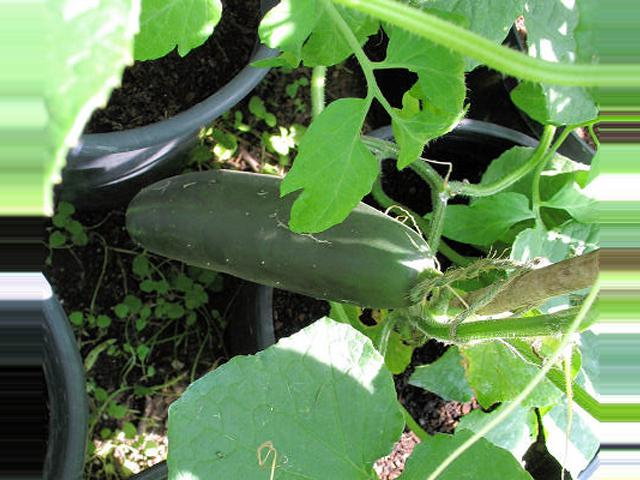cucumber: (125, 170, 437, 310)
